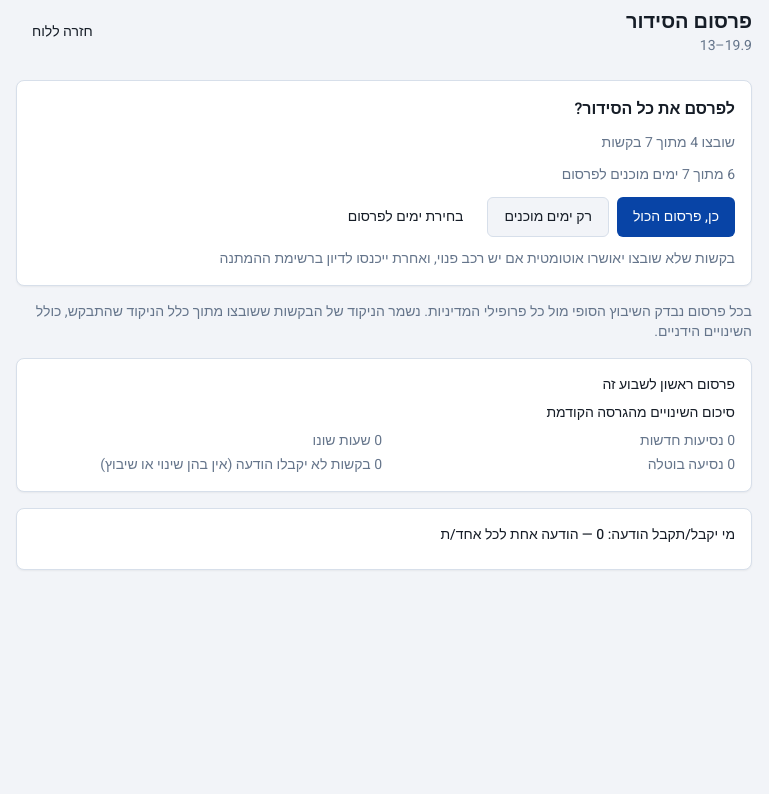
it: publication choices › an unsolved day is not pre-ticked and says so (R8B2)
Click the button "בחירת ימים לפרסום".
click(406, 217)  # box [332,197,480,237]
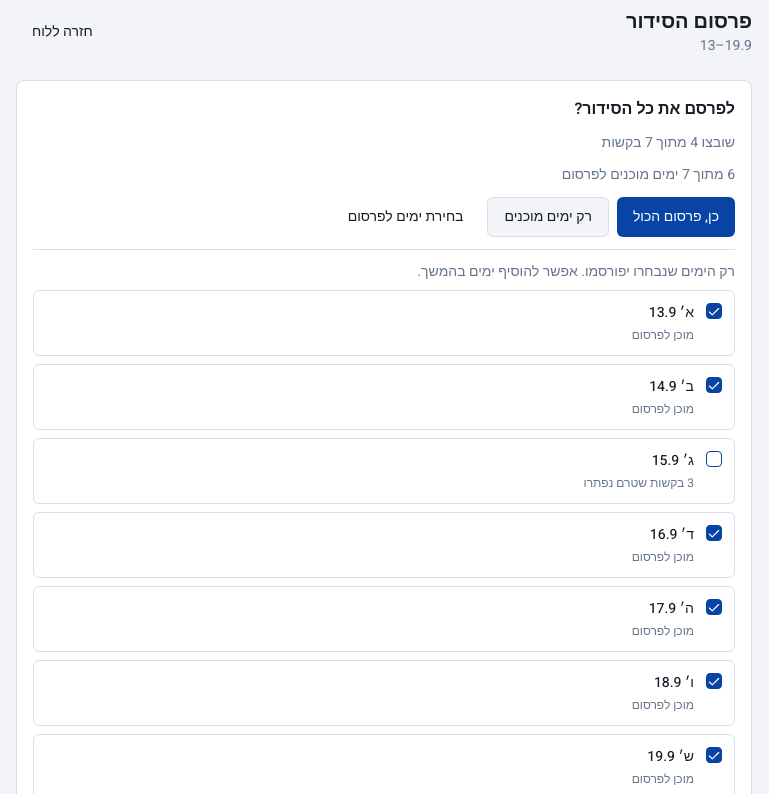
Expected: the text "3 בקשות שטרם נפתרו" is shown, [584,475,694,491]
